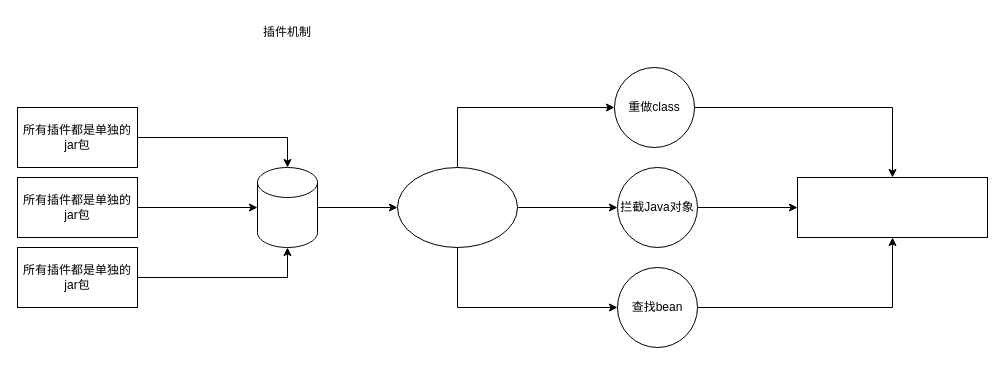
The diagram is 1005 pixels wide and 365 high, and some of its shapes have lost their labels. Here are the shapes that lost their labels. From the top down, the centre of each, then its label:
At pixel 287 207: "加载插件".
At pixel 457 207: "寻找插件匹配的目标对象".
At pixel 892 207: "完成拦截、插件注入成功".
